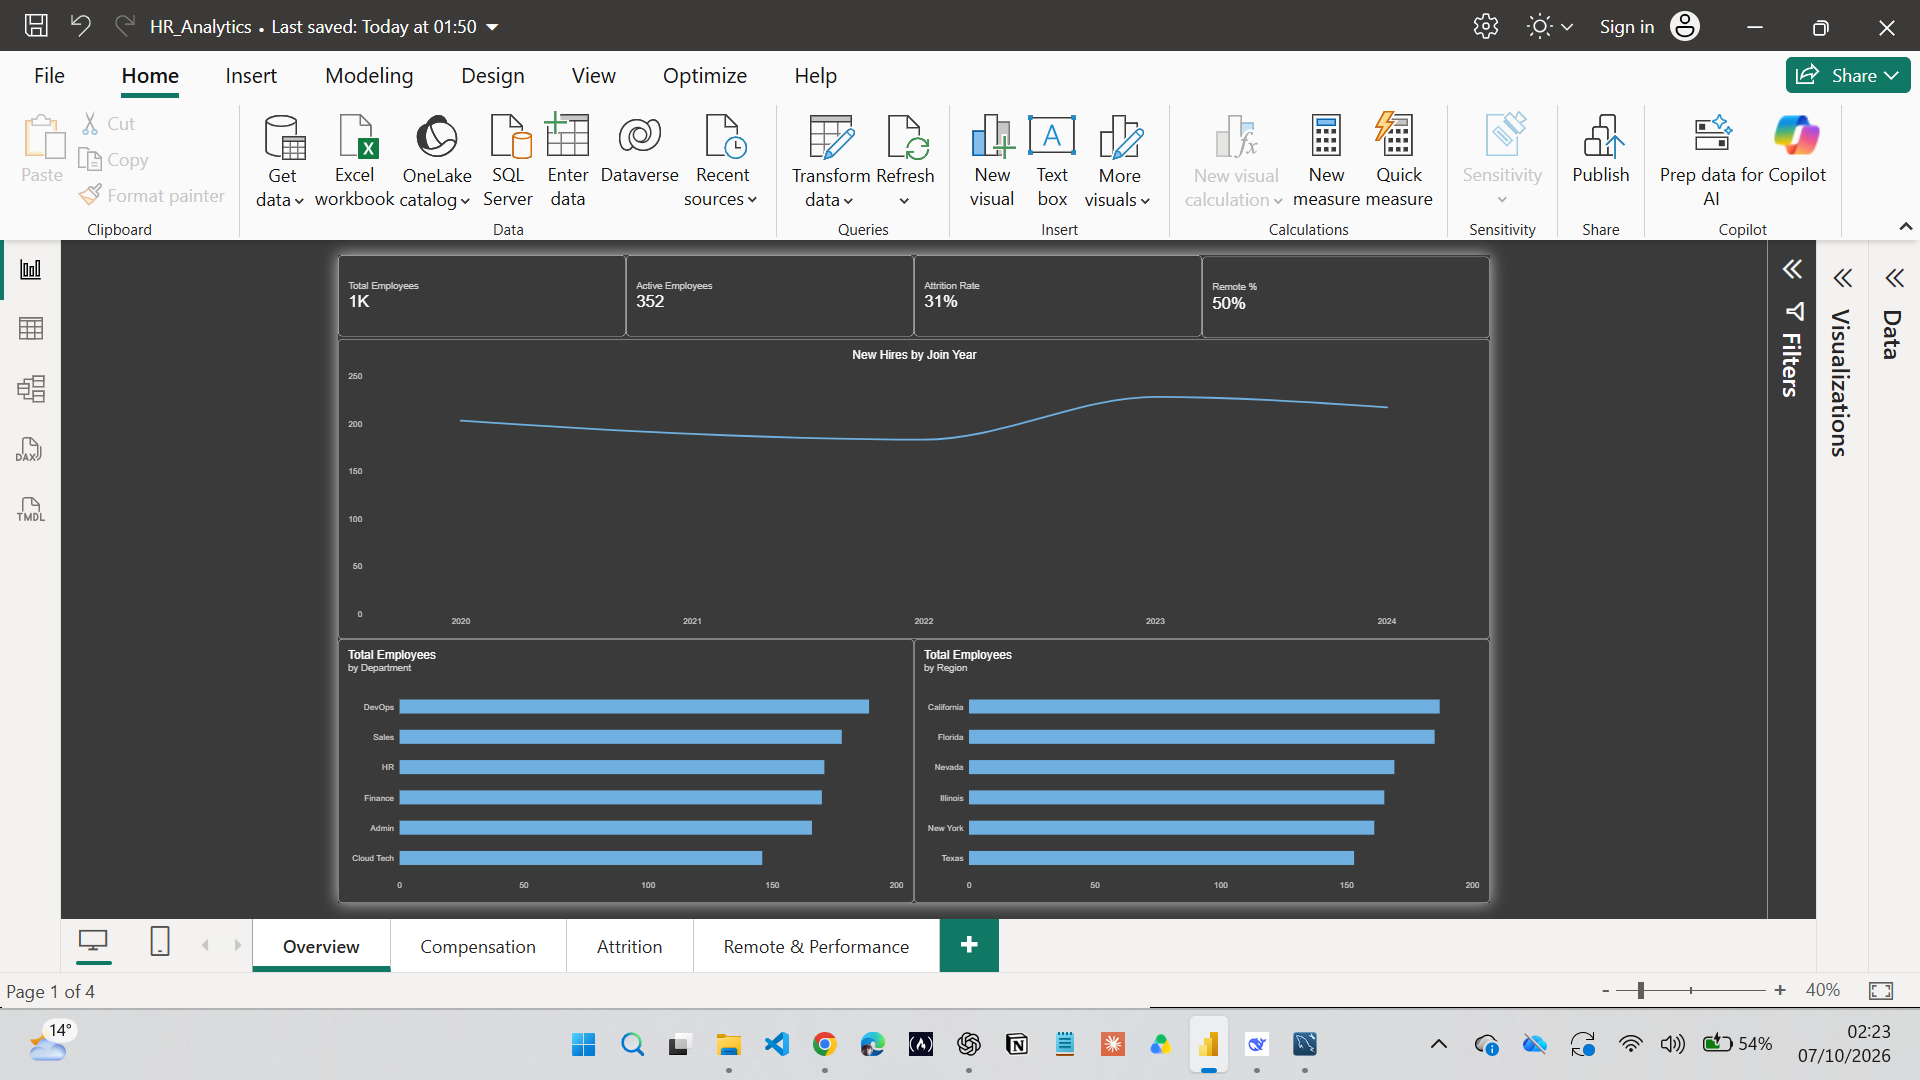

This screenshot's page, from the dashboard's own definition file:
{"tool":"powerbi","page":{"name":"Overview","canvas":[1920,1080],"ordinal":0},"visuals":[{"type":"cardVisual","fields":{"Data":["Employees.Total Employees"]},"box":[0,0,480,136.7],"z":0},{"type":"cardVisual","fields":{"Data":["Employees.Active Employees"]},"box":[480,0,480,136.7],"z":1},{"type":"cardVisual","fields":{"Data":["Employees.Attrition Rate"]},"box":[960,0,480,136.7],"z":2},{"type":"cardVisual","fields":{"Data":["Employees.Remote %"]},"box":[1440,3.3,480,136.7],"z":3},{"type":"clusteredBarChart","fields":{"Category":["Employees.Department"],"Y":["Employees.Total Employees"]},"box":[0,640,960,440],"z":4},{"type":"barChart","fields":{"Category":["Employees.Region"],"Y":["Employees.Total Employees"]},"box":[960,640,960,440],"z":5},{"type":"lineChart","title":"New Hires by Join Year","fields":{"Category":["Employees.Join_Year"],"Y":["Employees.Total Employees"]},"box":[0,140,1920,500],"z":6}]}

Visuals, with their boxes on the page's 1920x1080 design canvas (x1, y1, x2, y2). These are canvas units, not pixel positions in the 1920x1080 screenshot, which may show the page scaled, cropped or inside an application window:
cardVisual - Employees.Total Employees: select_region(0, 0, 480, 137)
cardVisual - Employees.Active Employees: select_region(480, 0, 960, 137)
cardVisual - Employees.Attrition Rate: select_region(960, 0, 1440, 137)
cardVisual - Employees.Remote %: select_region(1440, 3, 1920, 140)
clusteredBarChart - Employees.Department x Employees.Total Employees: select_region(0, 640, 960, 1080)
barChart - Employees.Region x Employees.Total Employees: select_region(960, 640, 1920, 1080)
"New Hires by Join Year" lineChart: select_region(0, 140, 1920, 640)
